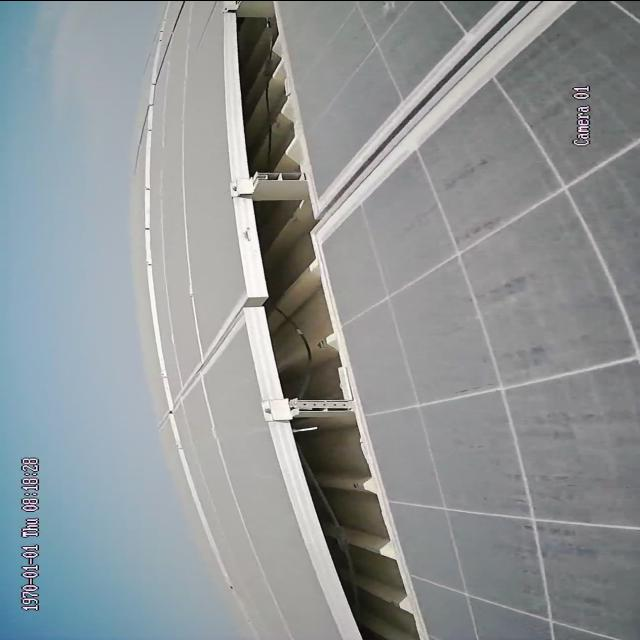interior panel: (322, 3, 567, 236), (179, 300, 238, 413)
outher panel: (223, 0, 428, 640)
